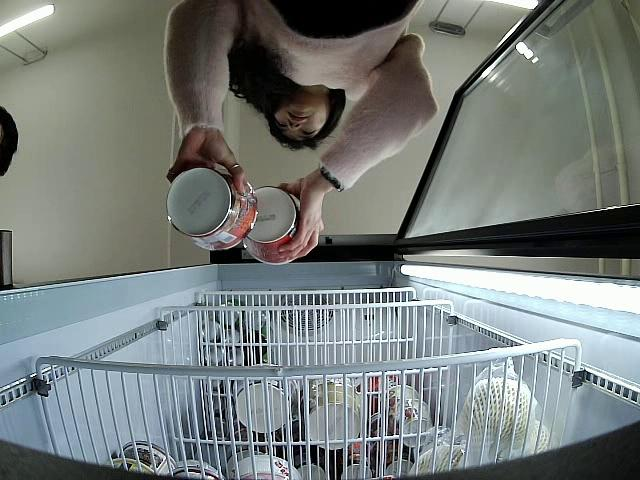00_hand: (169, 137, 246, 194), (282, 174, 325, 262)
01_shinRamen_L: (167, 164, 259, 249), (246, 184, 300, 265)
